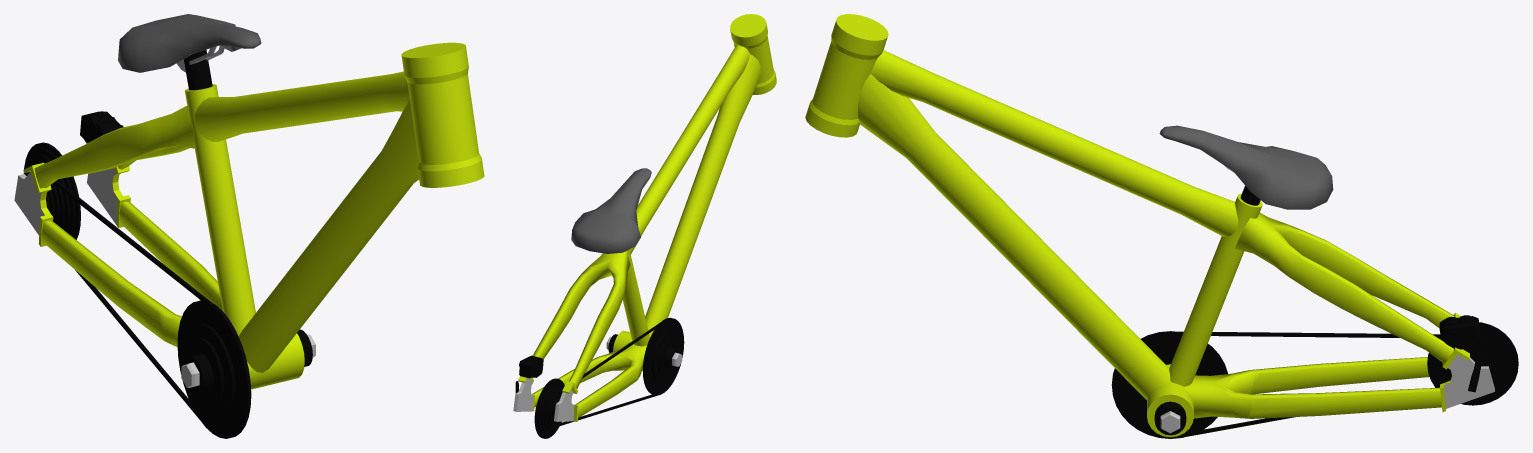
The model's file is bicycle_body.fbx.
3 renders of one model, left to right at view 1: azimuth 30°, elevation 25°; view 2: azimuth 150°, elevation 25°; view 3: azimuth 270°, elevation 25°, orthographic. The views are drawn at different scales.
Parts seen in each view (by area): view 1: frame; view 2: frame; view 3: frame.
Part boxes in pixels (box(x1,y1,x2,y2)): frame: box(14, 14, 484, 438); frame: box(513, 14, 776, 438); frame: box(805, 14, 1518, 438).
Bounding box in the file's own units: 16.56 × 66.1 × 99.02.
